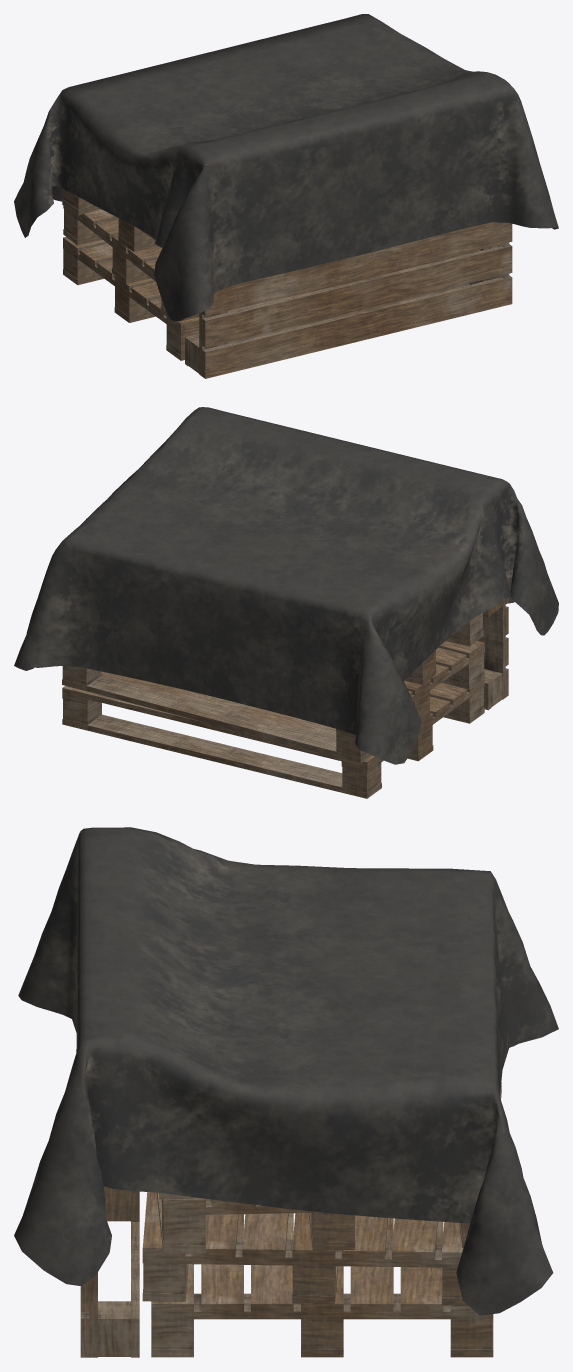
File: Tarp3.glb
3 views of the same model, one above another, from view 1: azimuth 30°, elevation 25°; view 2: azimuth 150°, elevation 25°; view 3: azimuth 270°, elevation 25° (orthographic). The views are drawn at different scales.
Parts seen in each view (by area): view 1: WoodPalette; view 2: WoodPalette; view 3: WoodPalette.
Part boxes in pixels (x1,y1,x2,y2): WoodPalette: (14,14,558,378); WoodPalette: (14,407,558,798); WoodPalette: (14,827,558,1357).
Size of the model in its own units: 1.51 by 0.8185 by 1.27.
Materials: 1 (1 with a texture image).
